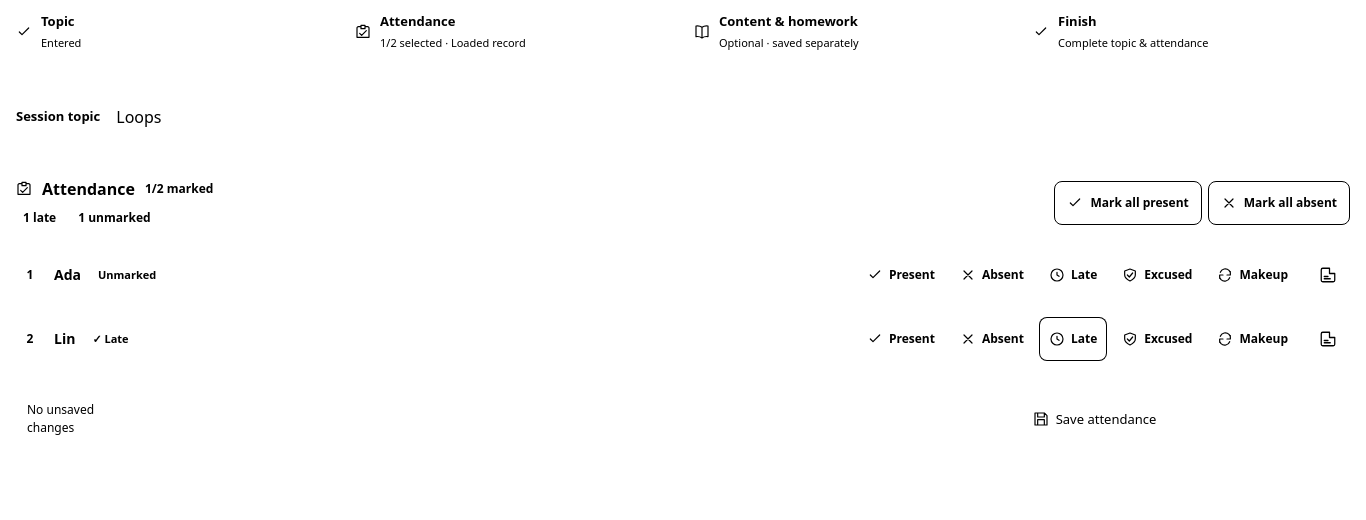
Test: session attendance workspace › retains the draft after an unexpected failure
Click the button with aria-label "Ada: Makeup".
click(1253, 275)  # box x1=1207 y1=253 x2=1298 y2=297
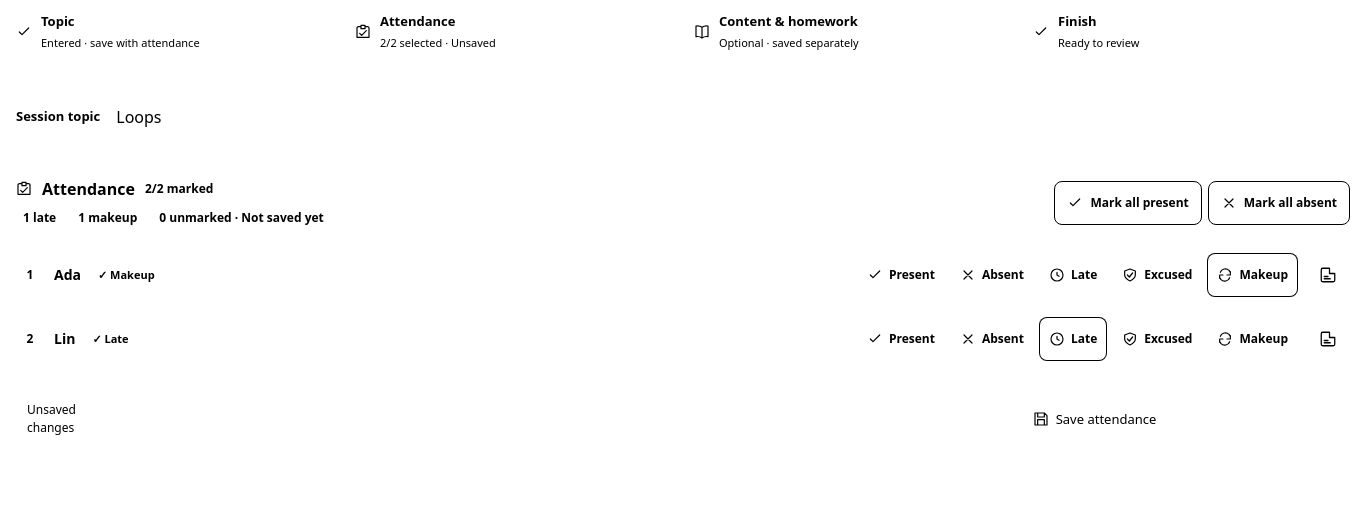
Click the button "Save attendance".
click(1095, 419)  # box x1=1017 y1=397 x2=1172 y2=441
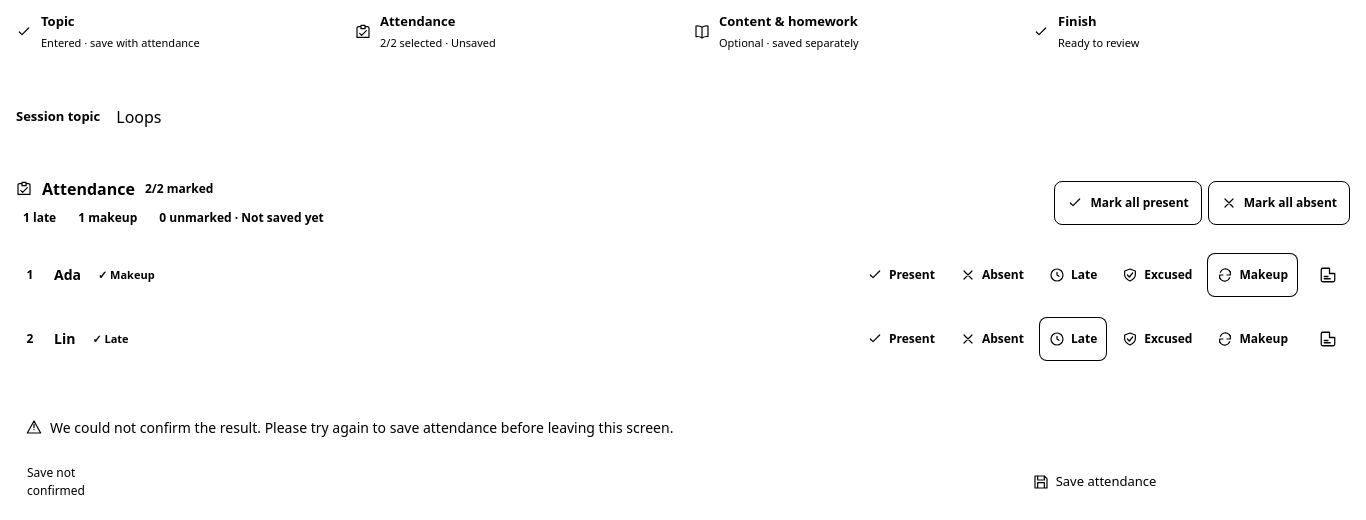
Expected: the button "Save attendance" is enabled, x1=1017 y1=460 x2=1172 y2=504
Now the 1st message shows "try again", box x1=50 y1=418 x2=673 y2=437
